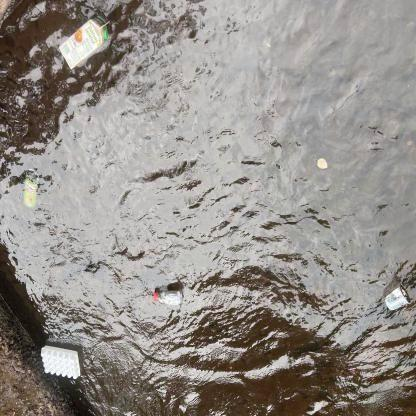Metal: (19, 168, 40, 210)
Plastic: (39, 338, 84, 384), (382, 280, 415, 316), (149, 286, 186, 312)
